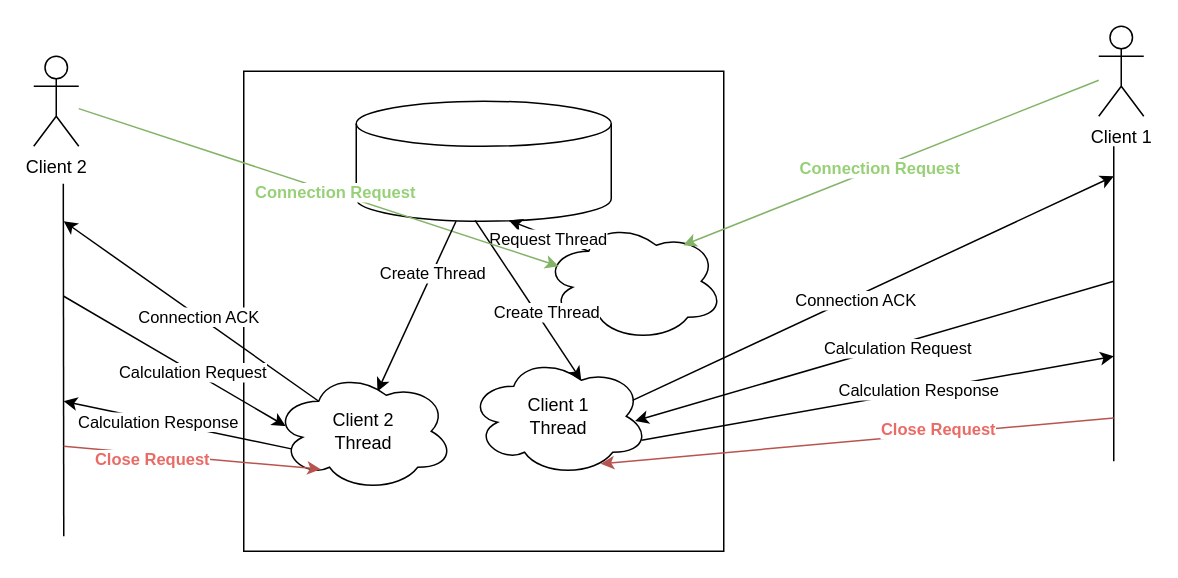
The diagram is 1178 pixels wide and 578 high, and some of its shapes have lost their labels. Here are the shapes that lost their labels. From the top down, the centre of each, then its label:
the point at 483,160: ThreadPool
the point at 633,280: Welcome Thread
